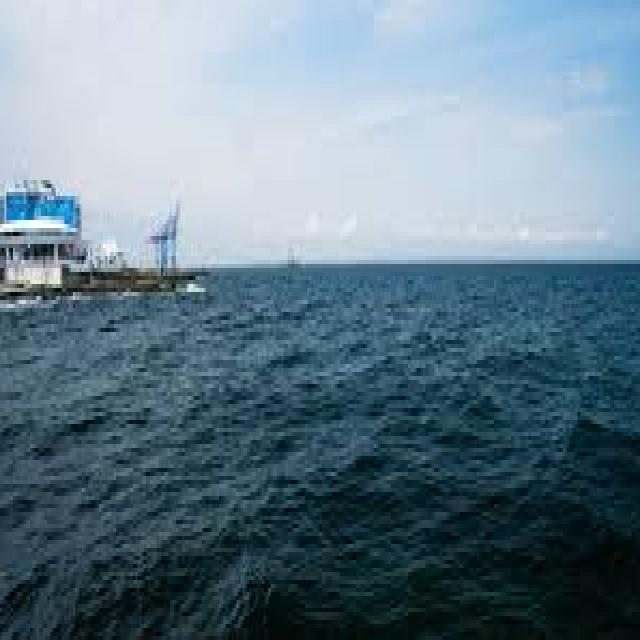fishing boat: (0, 148, 208, 304)
